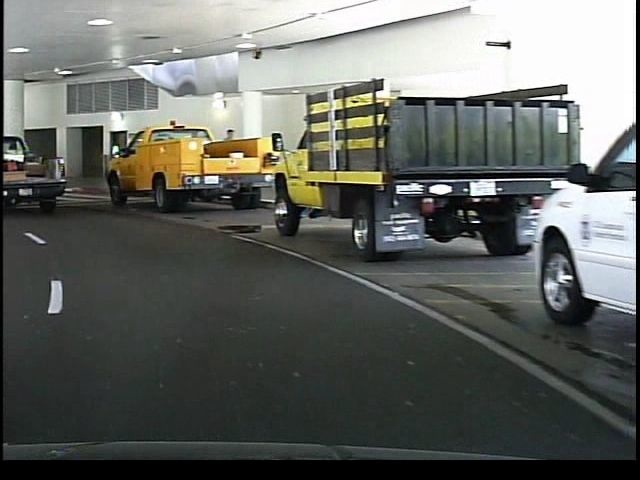person: (217, 124, 240, 197)
